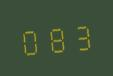eight: (44, 21, 68, 54)
three: (69, 18, 93, 52)
zero: (18, 23, 42, 57)
